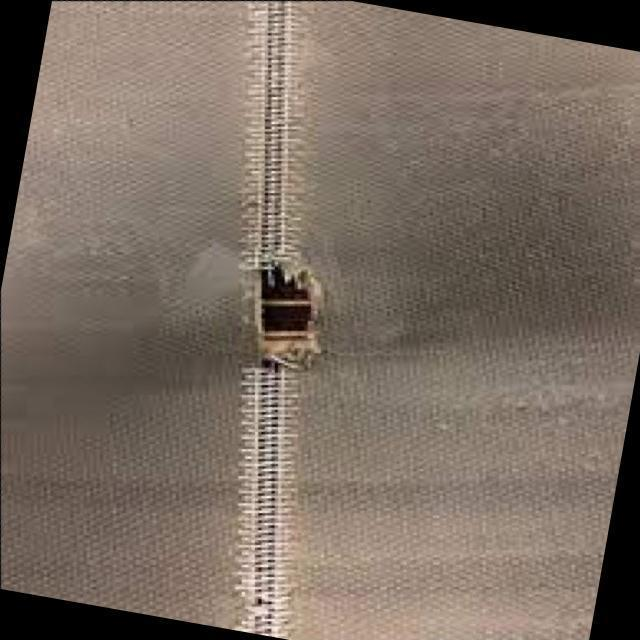Hole: (240, 252, 333, 390)
